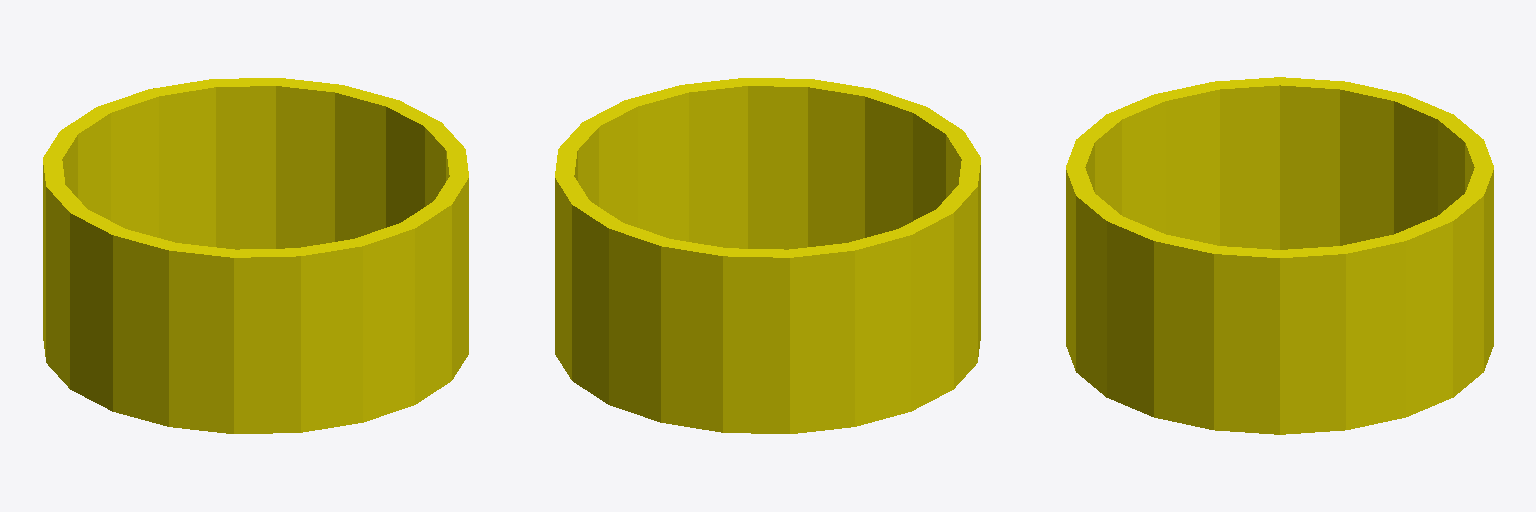
Rendered from HoleVisual.obj.
The picture shows the model from 3 angles: view 1: azimuth 30°, elevation 25°; view 2: azimuth 150°, elevation 25°; view 3: azimuth 270°, elevation 25°; orthographic projection.
Visible parts, largest first — view 1: HoleVisual; view 2: HoleVisual; view 3: HoleVisual.
Boxes of the visible parts, box(x1,y1,x2,y2) form: HoleVisual: box(43, 78, 468, 433); HoleVisual: box(555, 78, 980, 433); HoleVisual: box(1066, 77, 1493, 434).
Size of the model in its own units: 1.1 by 0.5 by 1.1.